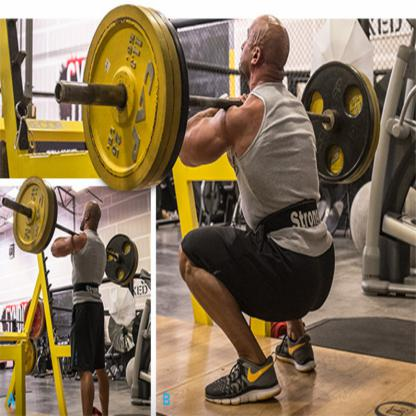Barbell: (75, 3, 192, 200), (6, 175, 62, 257)
